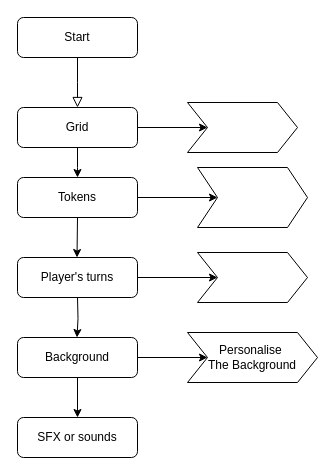
This 335x475 diagram has some shape labels left out. Each missing label, with the centre of its shape:
"Customise the grid?" goes at pixel 242 127.
"Customise the tokens?" goes at pixel 252 197.
"Personalise their turns" goes at pixel 252 277.
